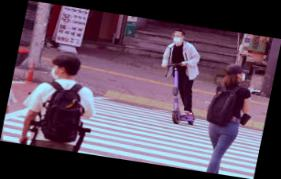nonhelmet: (147, 26, 217, 128)
